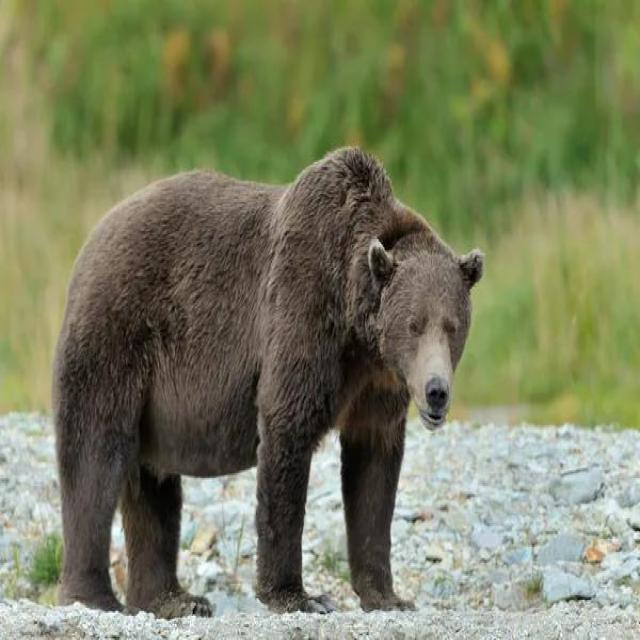Bear: (51, 148, 485, 619)
